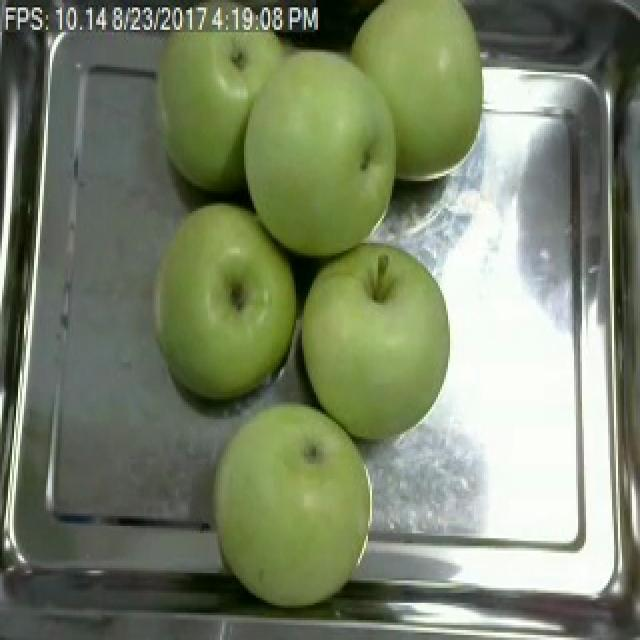50-_ripeness: (190, 378, 374, 632), (294, 217, 478, 426), (246, 50, 402, 246), (143, 197, 293, 396)
